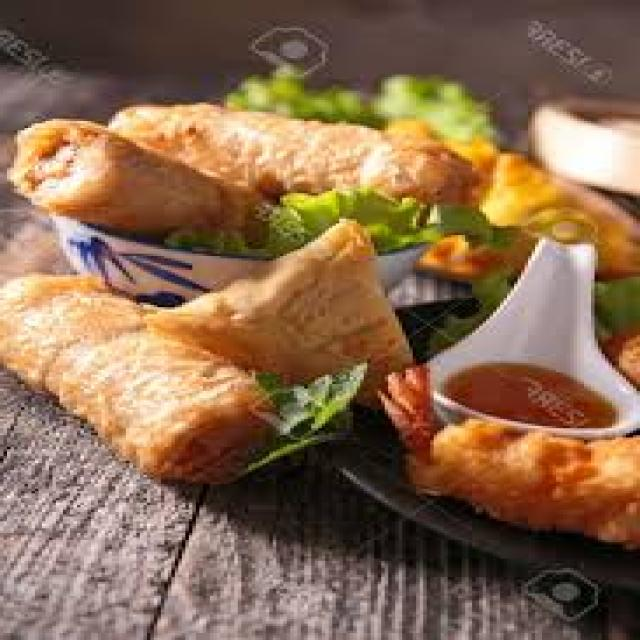Samosa: (171, 219, 420, 370)
Spring Rolls: (11, 95, 468, 233), (4, 265, 262, 468)
